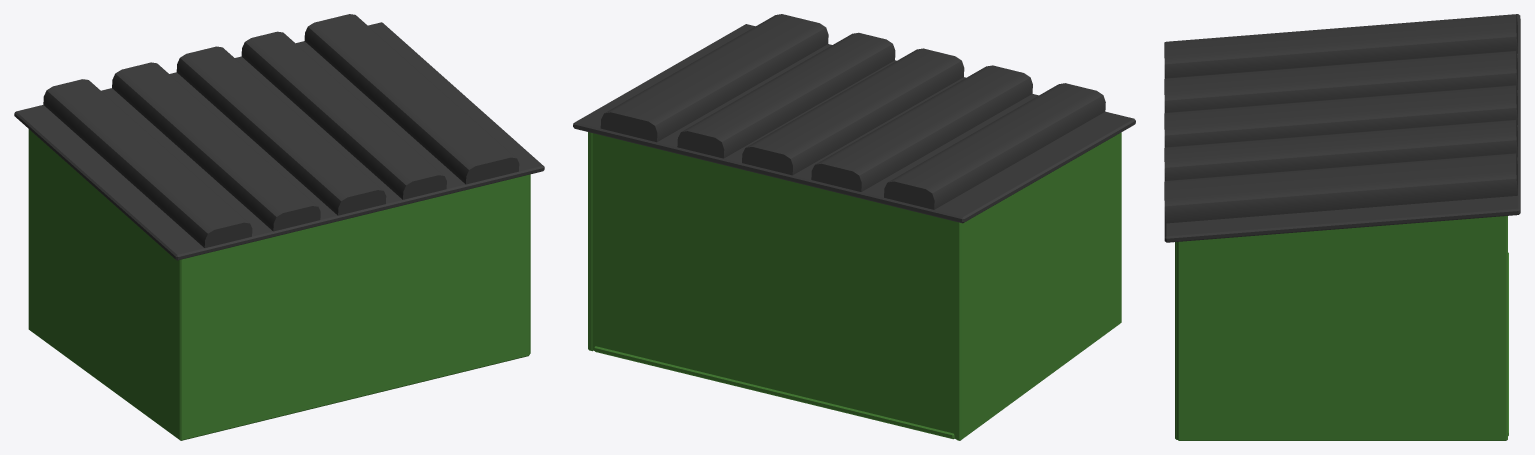
File: contenedor basura.fbx
3 views of the same model, side by side, from view 1: azimuth 30°, elevation 25°; view 2: azimuth 150°, elevation 25°; view 3: azimuth 270°, elevation 25° (orthographic). The views are drawn at different scales.
Visible parts, largest first — view 1: pCube21, pCube5, pCube3; view 2: pCube6, pCube21, pCube3, pCube1, pCube4; view 3: pCube21, pCube4, pCube5.
Boxes of the visible parts, box(x1,y1,x2,y2) form: pCube21: box(14, 14, 544, 260); pCube5: box(178, 174, 529, 440); pCube3: box(28, 129, 178, 438); pCube6: box(592, 133, 955, 438); pCube21: box(573, 14, 1135, 223); pCube3: box(956, 133, 1120, 440); pCube1: box(594, 346, 954, 439); pCube4: box(588, 132, 592, 351); pCube21: box(1164, 14, 1520, 242); pCube4: box(1177, 216, 1507, 440); pCube5: box(1175, 242, 1176, 439).
Size of the model in its own units: 6.84 by 4.15 by 5.24.
